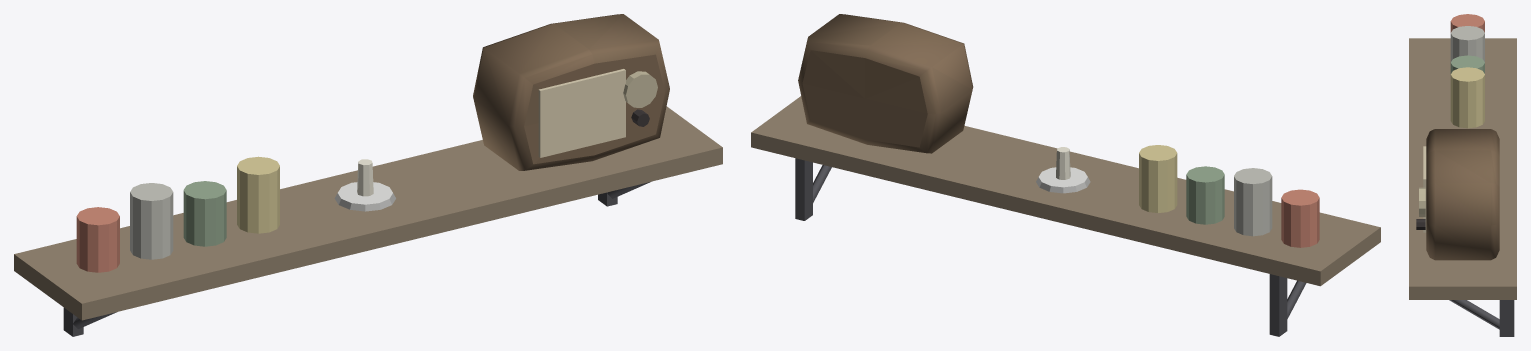
Rendered from cabin_shelf_a.glb.
3 renders of one model, left to right at view 1: azimuth 30°, elevation 25°; view 2: azimuth 150°, elevation 25°; view 3: azimuth 270°, elevation 25°, orthographic. The views are drawn at different scales.
Parts seen in each view (by area): view 1: body; view 2: body; view 3: body.
Part boxes in pixels (bbox=[...]): body: bbox=[14, 14, 722, 336]; body: bbox=[751, 14, 1380, 336]; body: bbox=[1409, 14, 1516, 336].
Bounding box in the file's own units: 1.2 × 0.36 × 0.22.
